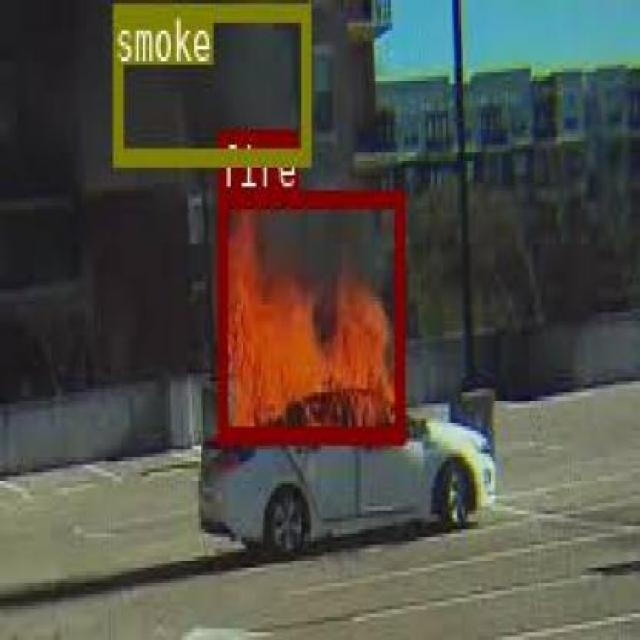Fire: (216, 188, 402, 438)
Smoke: (218, 29, 295, 129)
